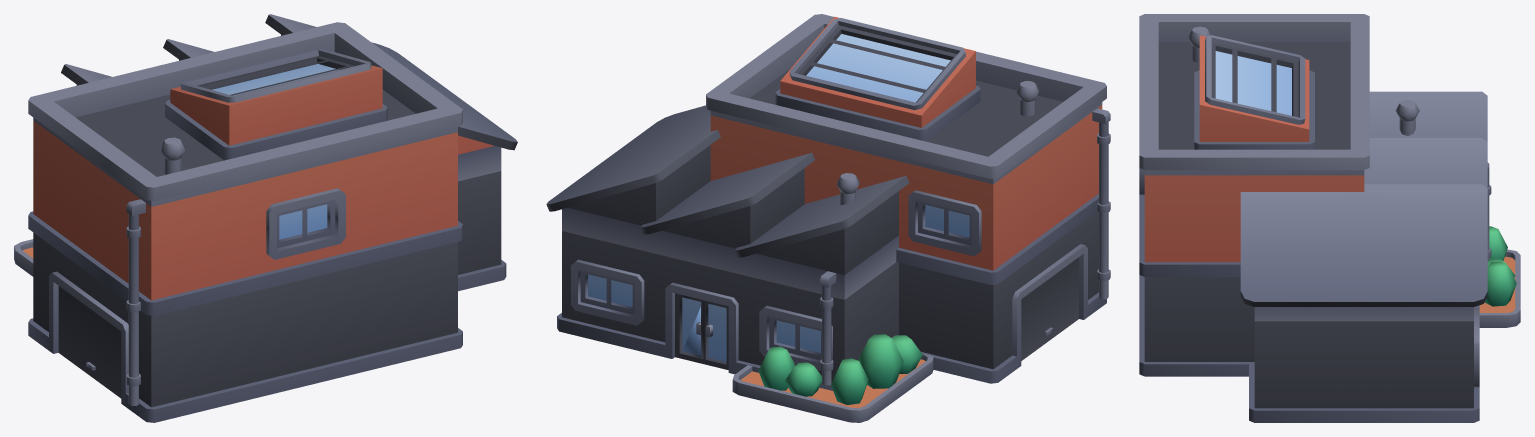
Rendered from school-ICSoXjA1.glb.
The picture shows the model from 3 angles, left to right: view 1: azimuth 30°, elevation 25°; view 2: azimuth 150°, elevation 25°; view 3: azimuth 270°, elevation 25°; orthographic projection. The views are drawn at different scales.
Parts seen in each view (by area): view 1: building-t; view 2: building-t; view 3: building-t.
Part boxes in pixels (x1,y1,x2,y2): building-t: (14,14,517,422); building-t: (546,14,1110,422); building-t: (1139,14,1520,422).
Bounding box in the file's own units: 1.72 × 1.01 × 1.39.
1 material, 1 textured.
